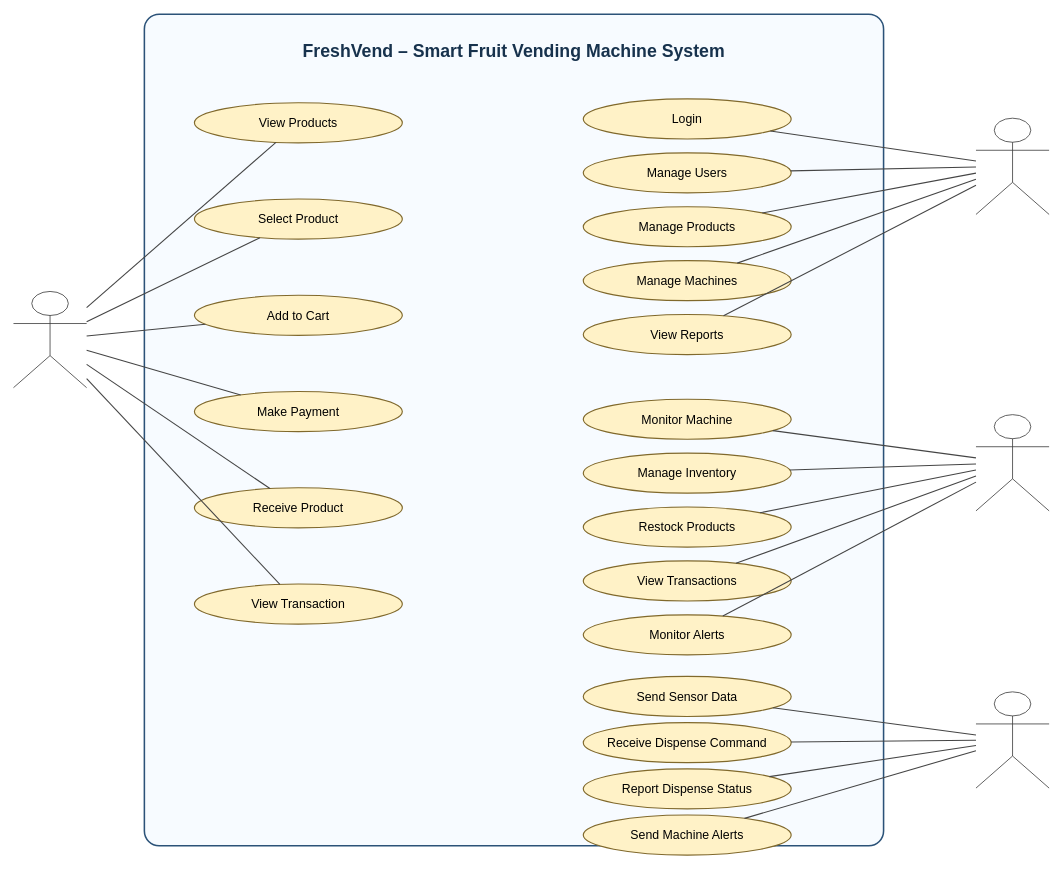
The diagram is 1063 pixels wide and 869 high, and some of its shapes have lost their labels. Each missing label, with the box of its shape:
Admin: (975, 117, 1049, 214)
Customer: (13, 291, 87, 388)
IoT Device: (975, 691, 1049, 788)
Operator: (975, 414, 1049, 511)
